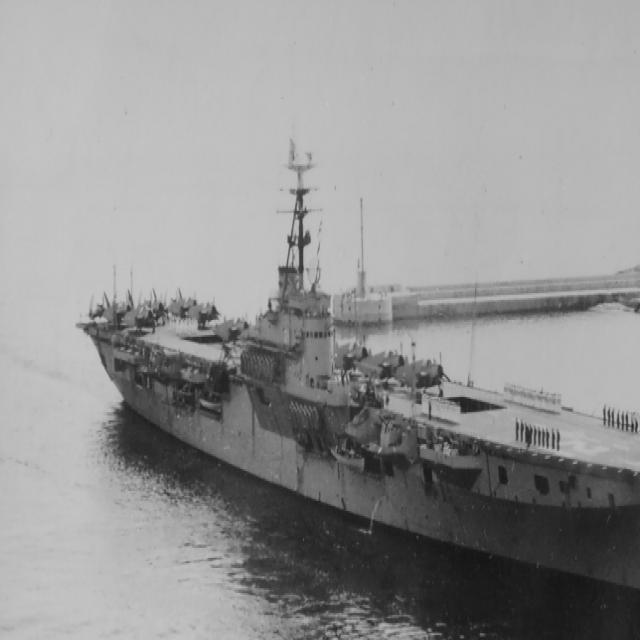Portanaves: (70, 128, 640, 632)
